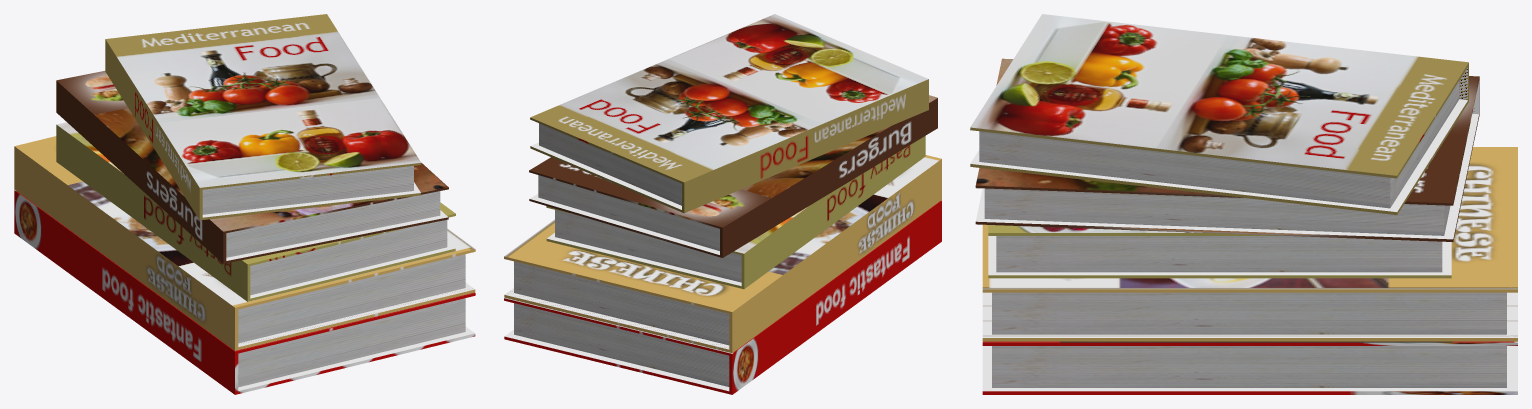
File: Books.FBX
3 renders of one model, left to right at view 1: azimuth 30°, elevation 25°; view 2: azimuth 150°, elevation 25°; view 3: azimuth 270°, elevation 25°, orthographic. The views are drawn at different scales.
Visible parts, largest first — view 1: Book 5, Book 2, Book 1, Book 4, Book 3; view 2: Book 5, Book 2, Book 1, Book 4, Book 3; view 3: Book 5, Book 2, Book 1, Book 4, Book 3.
Boxes of the visible parts, x1,y1,x2,y2 form: Book 5: [105, 14, 421, 220]; Book 2: [14, 136, 475, 350]; Book 1: [14, 190, 475, 394]; Book 4: [56, 71, 448, 263]; Book 3: [56, 122, 455, 301]; Book 5: [530, 14, 928, 213]; Book 2: [504, 155, 941, 353]; Book 1: [504, 200, 941, 394]; Book 4: [529, 95, 937, 257]; Book 3: [546, 136, 925, 289]; Book 5: [970, 14, 1468, 214]; Book 2: [982, 147, 1517, 341]; Book 1: [982, 341, 1517, 394]; Book 4: [975, 58, 1479, 241]; Book 3: [988, 225, 1451, 278].
Bounding box in the file's own units: 21.3 × 14.27 × 30.46.
Materials: 1 (1 with a texture image).
